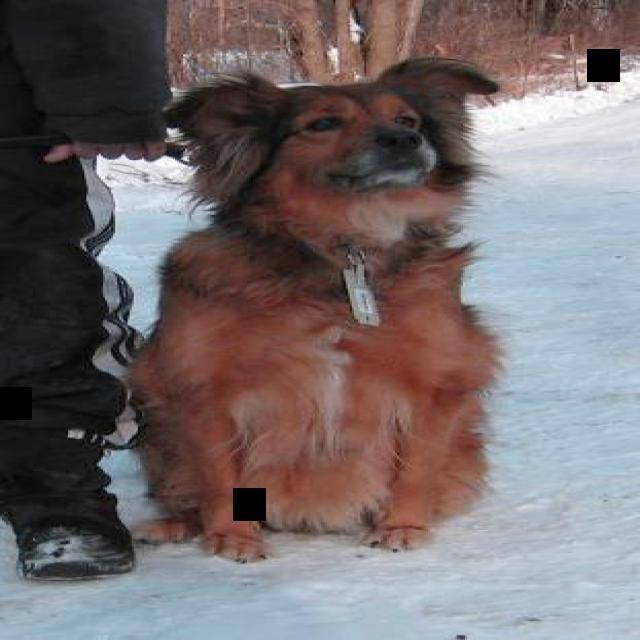adult_dog: (133, 50, 508, 563)
